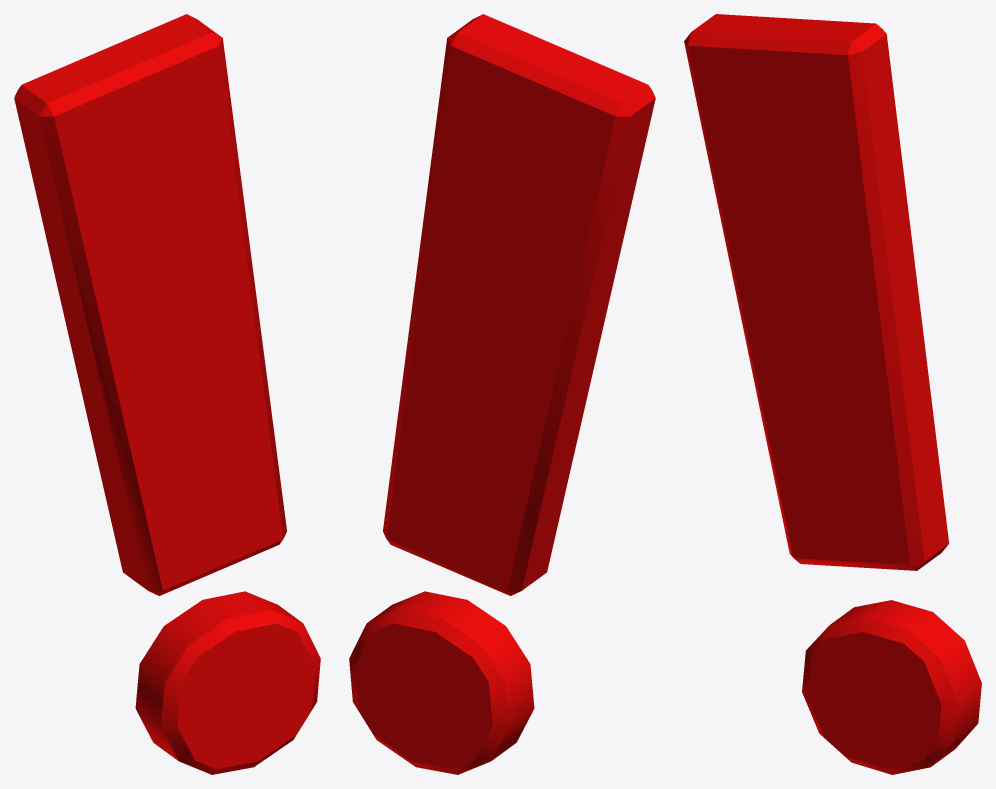
File: Exclamation_Mark.fbx
3 views of the same model, side by side, from view 1: azimuth 30°, elevation 25°; view 2: azimuth 150°, elevation 25°; view 3: azimuth 330°, elevation 25° (orthographic). The views are drawn at different scales.
Visible parts, largest first — view 1: Text; view 2: Text; view 3: Text.
Boxes of the visible parts, bbox=[...] form: Text: bbox=[14, 14, 320, 774]; Text: bbox=[349, 14, 655, 774]; Text: bbox=[684, 14, 981, 774].
Bounding box in the file's own units: 22.44 × 56.76 × 5.
